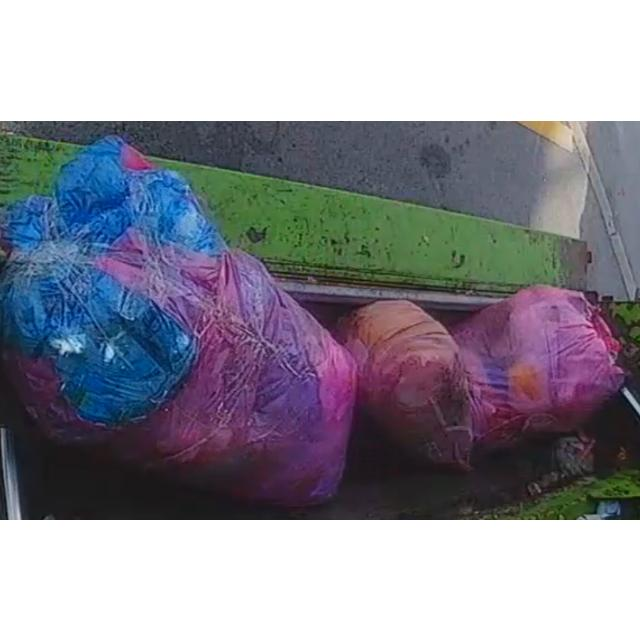other_trashbag: (0, 136, 356, 506), (454, 286, 624, 445), (346, 300, 472, 469)
